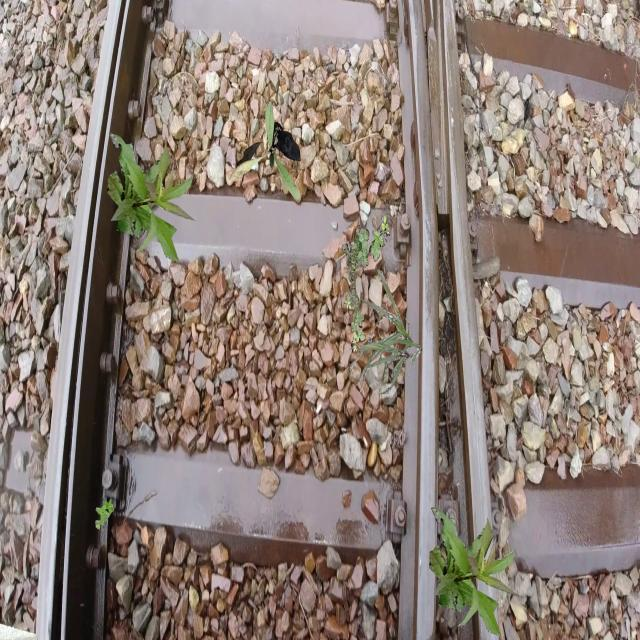Plant: (107, 133, 196, 263), (429, 507, 518, 637), (350, 270, 423, 394), (229, 101, 300, 200), (342, 215, 390, 353), (95, 497, 114, 530)
